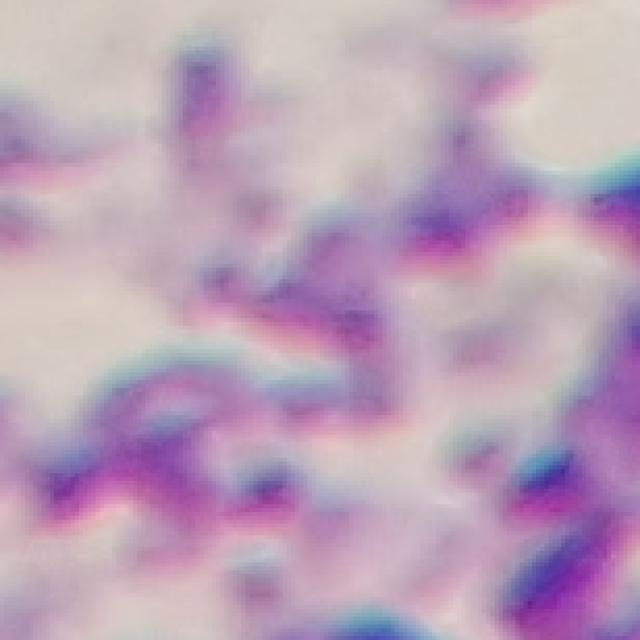non-sperm: (192, 200, 426, 427)
